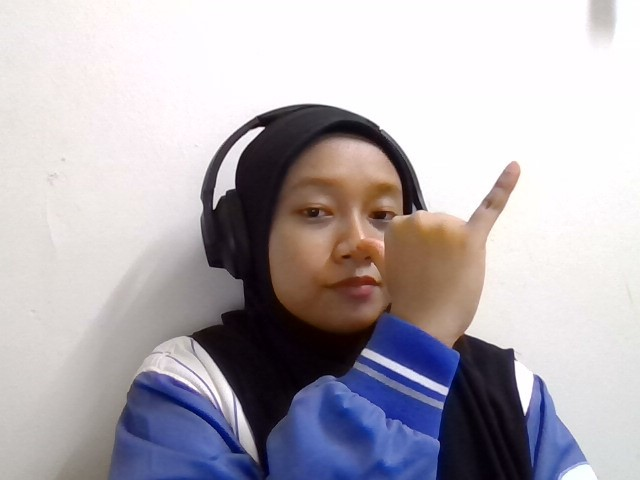BadakSumbu: (325, 160, 521, 309)
